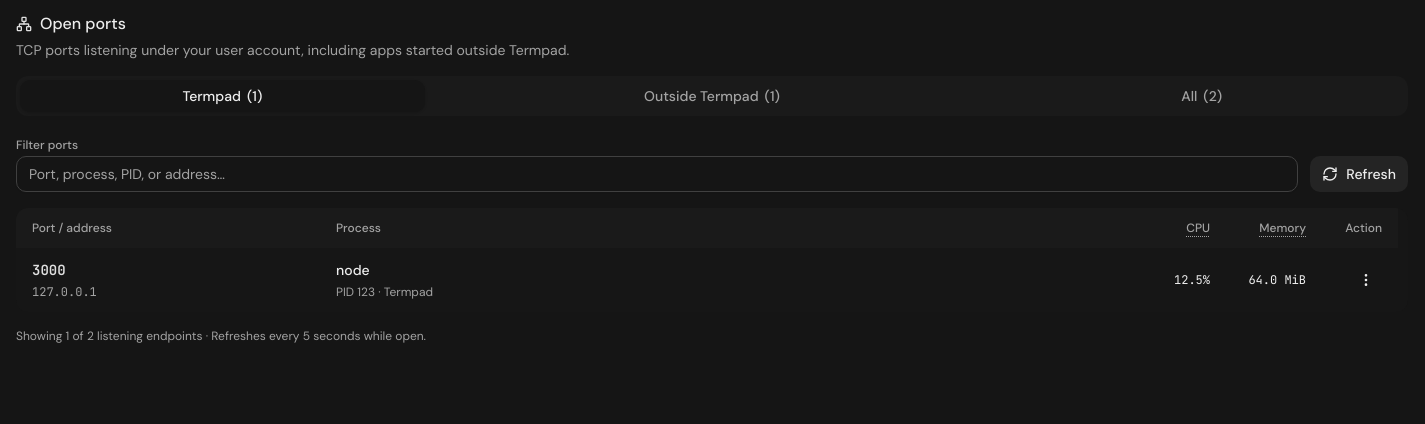
Test: Open ports › shows listeners and filters by process or port
Expected: the text "3000" is shown, [32,261,66,279]
Click the button "All (2)" at (1202, 96), box [999,80,1404,112]
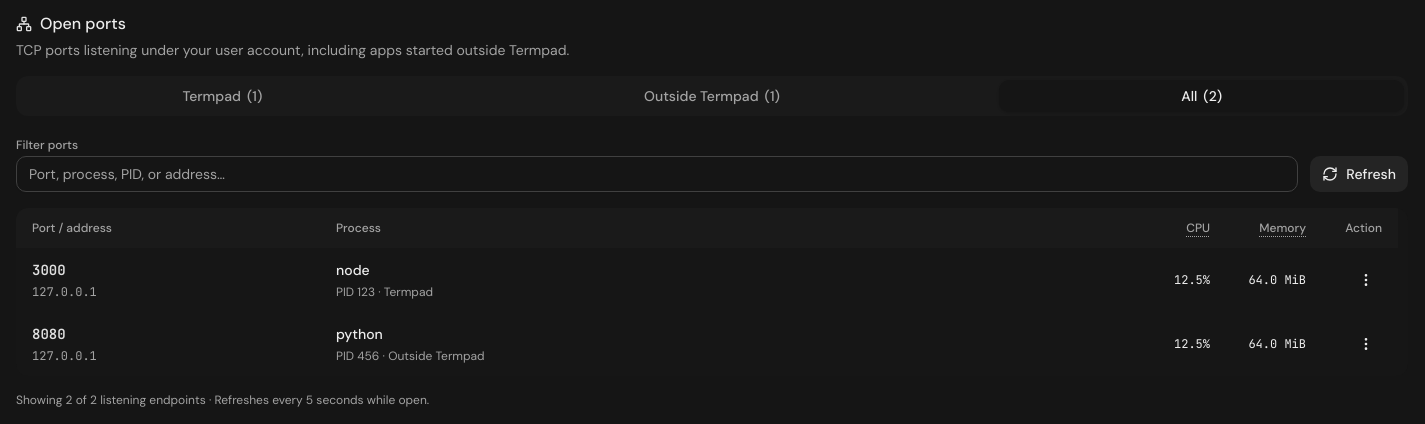
Type "python" into the field labelled "Filter ports" at (657, 174), box [16,156,1298,192]
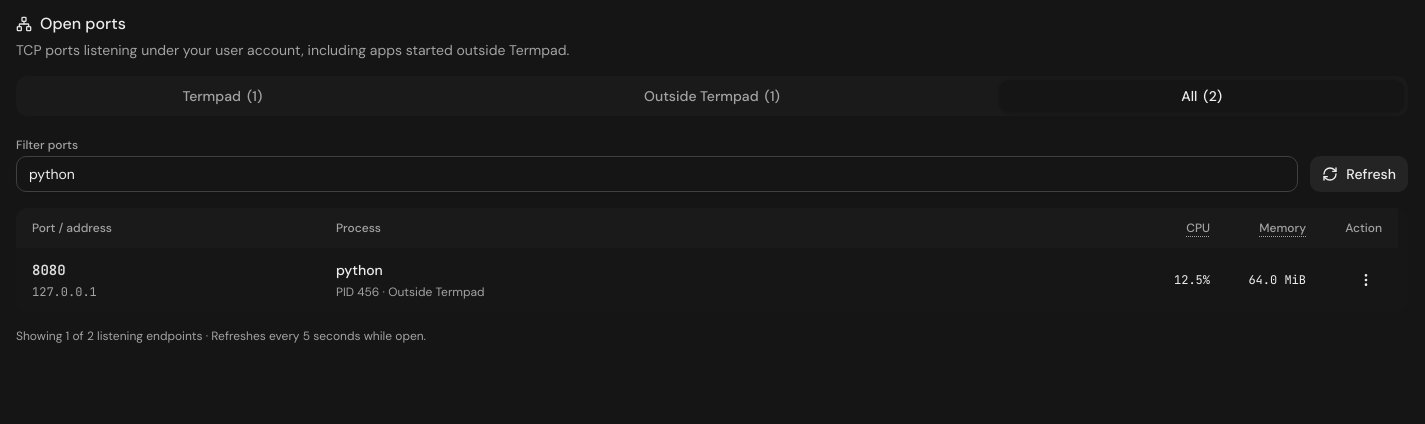
Result: the text "8080" is shown at [32,261,66,279]
Result: the text "3000" is gone
Replace the text in the field labelled "Filter ports" with "9999" at (657, 174), box [16,156,1298,192]
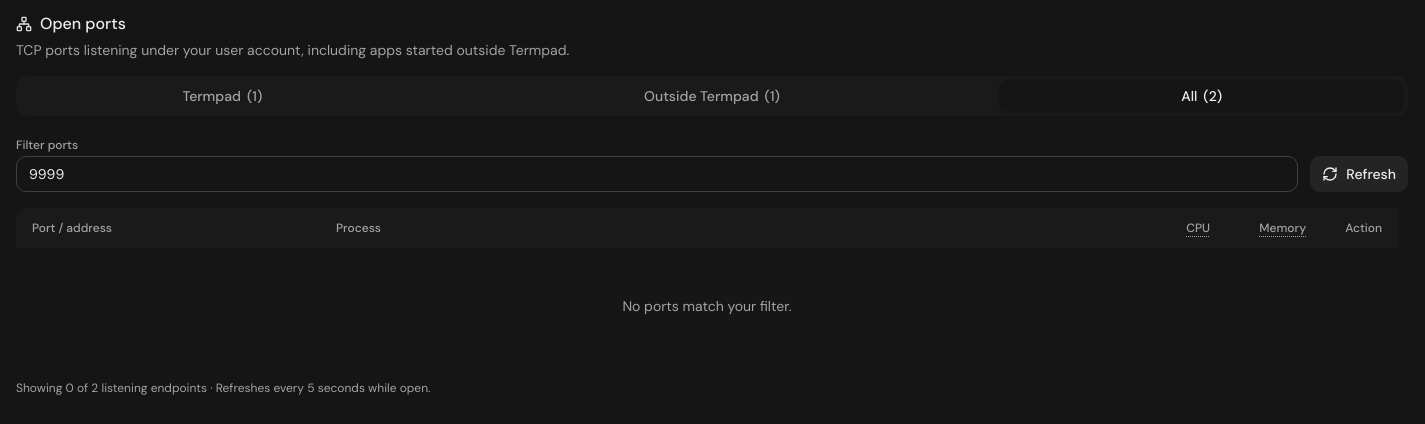
Result: the text "No ports match your filter." is shown at [16,248,1398,364]
